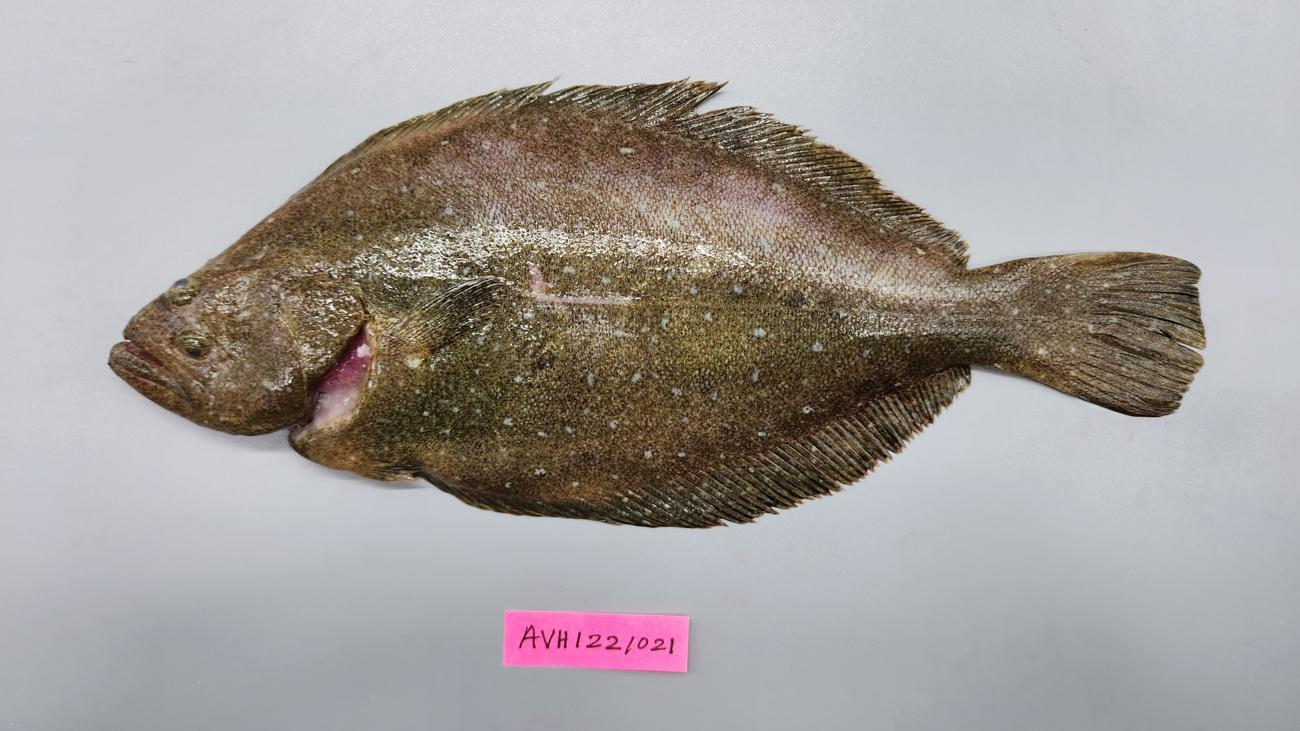VIDYU: (440, 130, 986, 302), (524, 259, 640, 309)
VIFCH: (1075, 253, 1204, 401)
VIOUY: (101, 69, 1209, 521)
